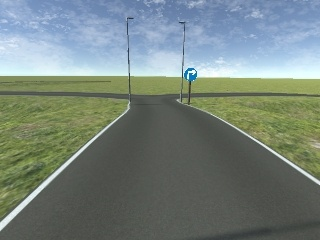TRight: (184, 67, 199, 82)
